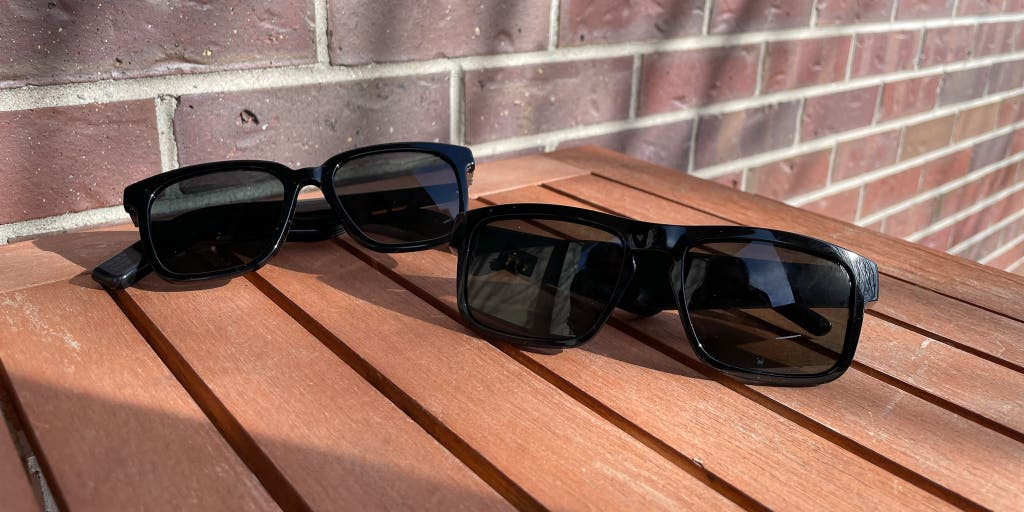lente: (86, 139, 887, 406)
